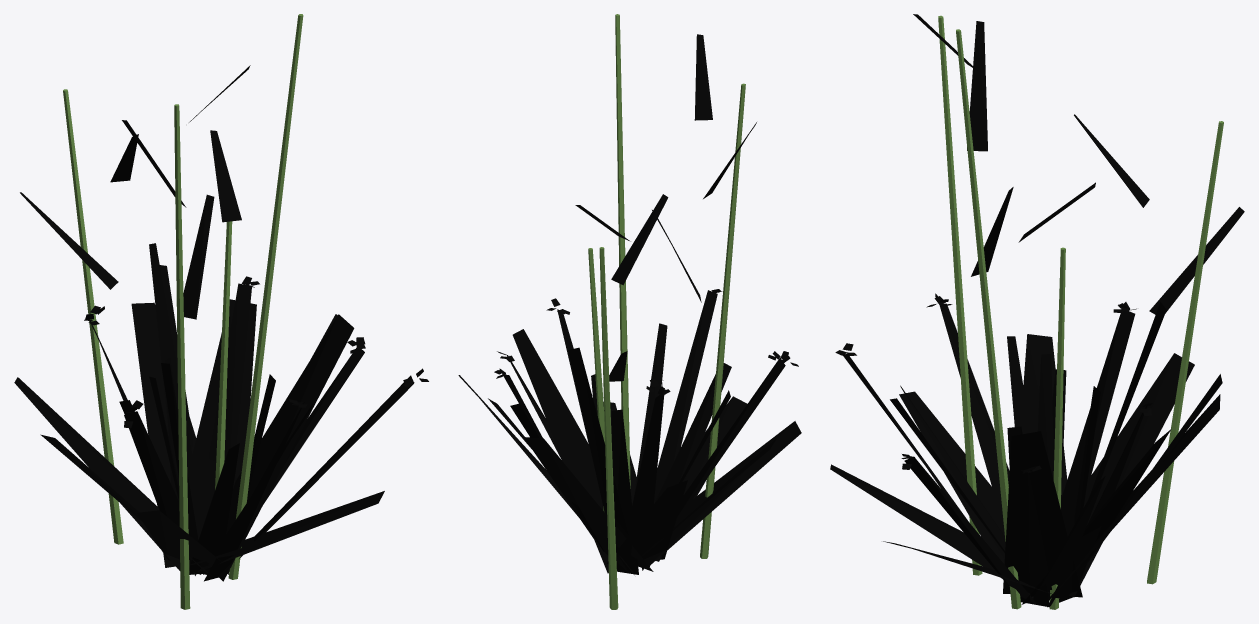
Rendered from lib_lib_shrub_under.vc.glb.
The picture shows the model from 3 angles, left to right: view 1: azimuth 30°, elevation 25°; view 2: azimuth 150°, elevation 25°; view 3: azimuth 270°, elevation 25°; orthographic projection. The views are drawn at different scales.
Visible parts, largest first — view 1: fern, weed, bamboo_shoot; view 2: weed, fern, bamboo_shoot; view 3: weed, fern, bamboo_shoot.
Part boxes in pixels (bbox=[...]): fern: bbox=[14, 299, 384, 581]; weed: bbox=[84, 243, 428, 581]; bamboo_shoot: bbox=[20, 14, 303, 609]; weed: bbox=[458, 289, 798, 574]; fern: bbox=[488, 329, 801, 574]; bamboo_shoot: bbox=[575, 14, 756, 609]; weed: bbox=[835, 293, 1222, 607]; fern: bbox=[830, 334, 1220, 605]; bamboo_shoot: bbox=[913, 14, 1244, 609].
Size of the model in its own units: 0.8299 by 1.39 by 0.8759.
